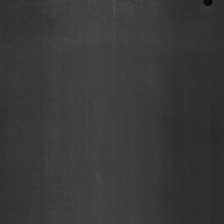punching_hole: (202, 0, 213, 8)
